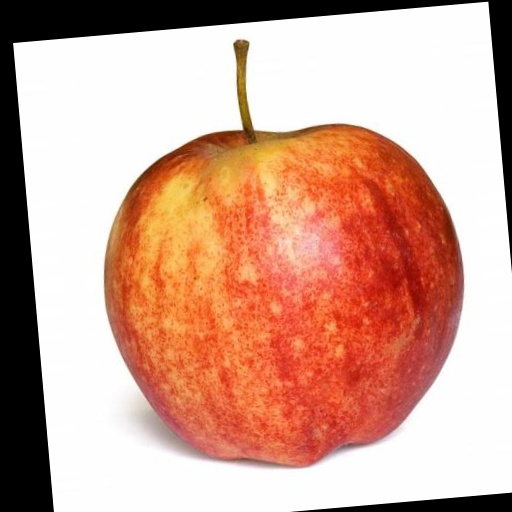fruit: (104, 42, 462, 465)
